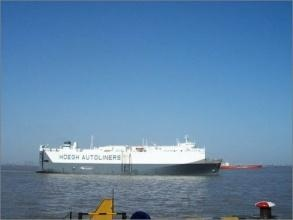Cargoship: (36, 135, 224, 176)
